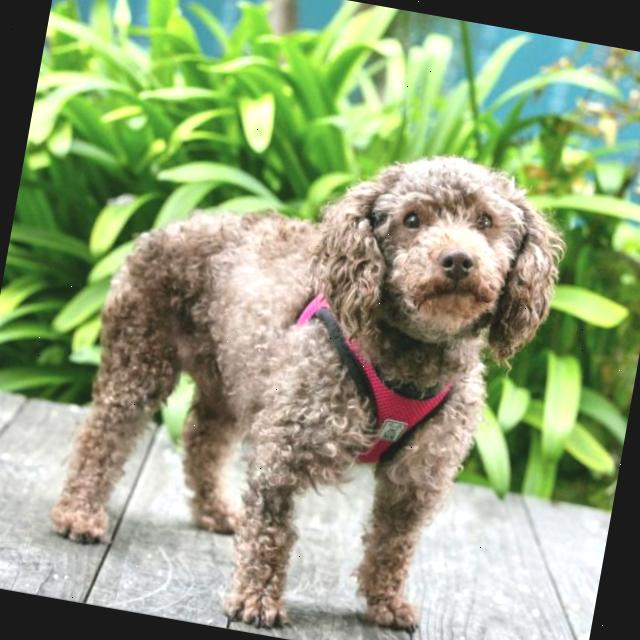Poodle_dog: (280, 128, 587, 400)
